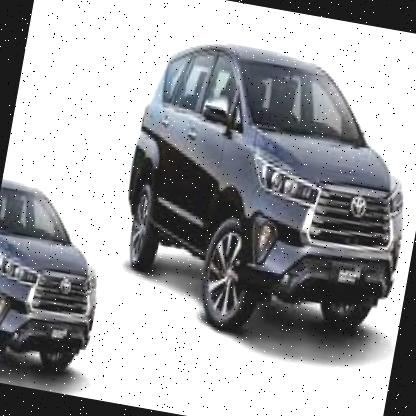car: (98, 21, 416, 364)
